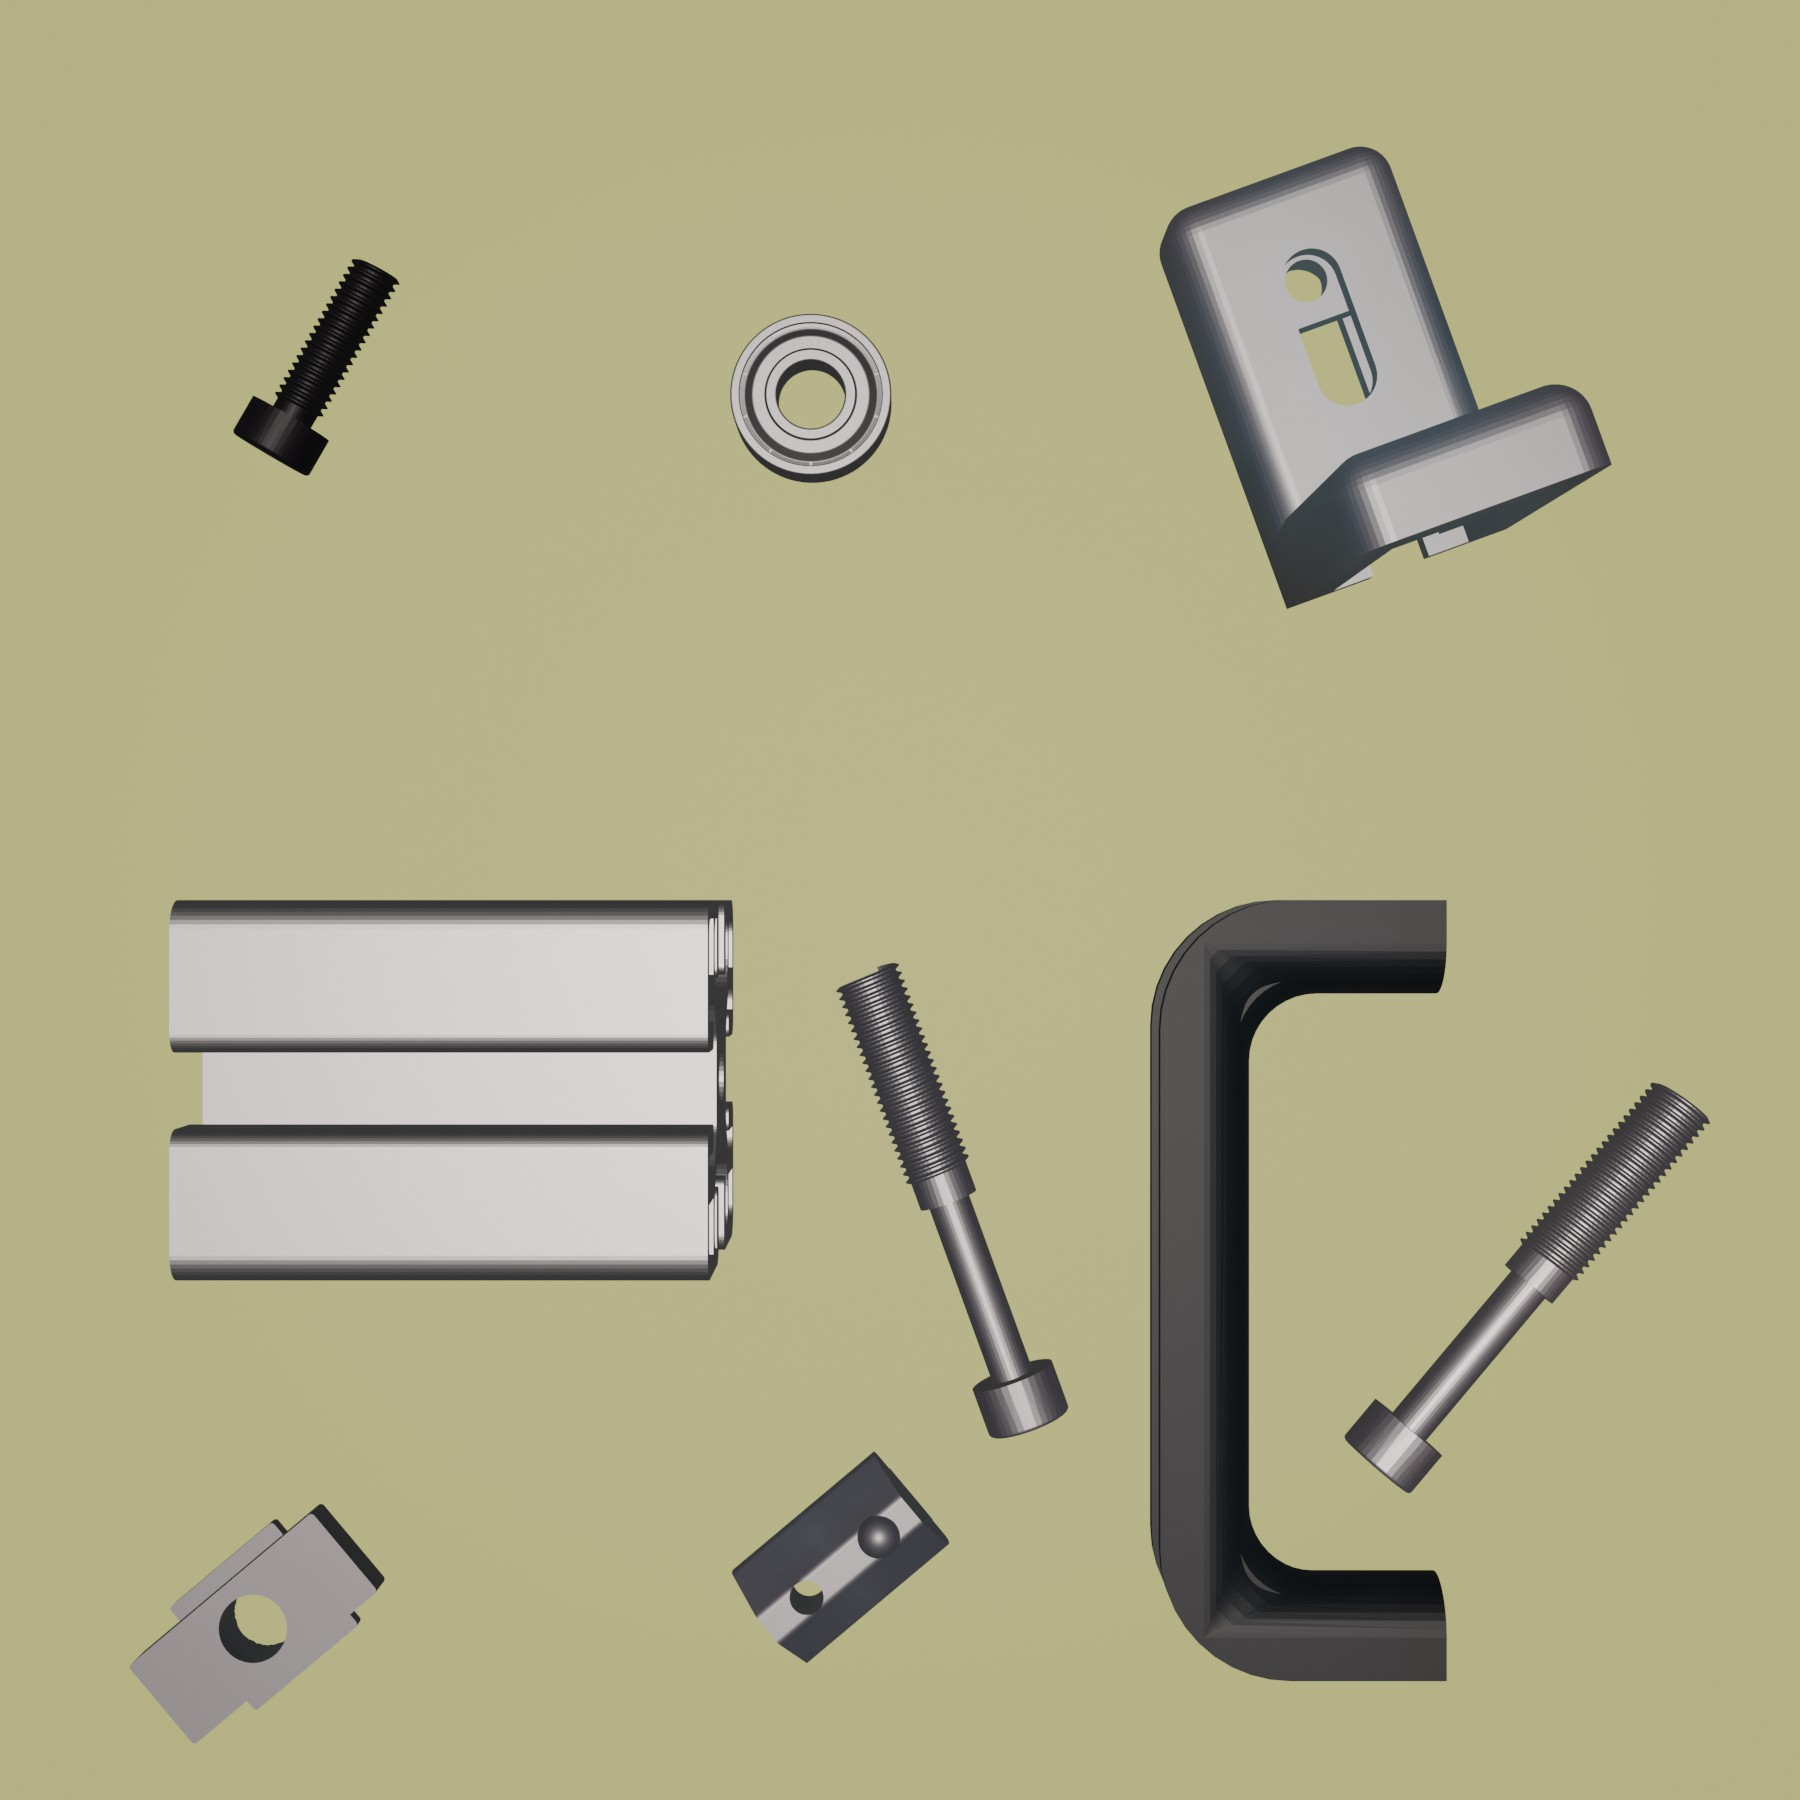Aluminium Extension: (162, 892, 738, 1286)
Ball Bearing: (729, 312, 893, 485)
Multiwinkel: (1155, 143, 1614, 608)
Pull Handle: (1141, 893, 1451, 1686)
Shoulder Socket Head Cap Screw: (1342, 1078, 1711, 1495), (832, 961, 1071, 1441)
Socket Head Cap Screw: (229, 254, 401, 480)
T Nut Square: (125, 1498, 389, 1746)
T Spring Nut: (727, 1447, 953, 1663)
